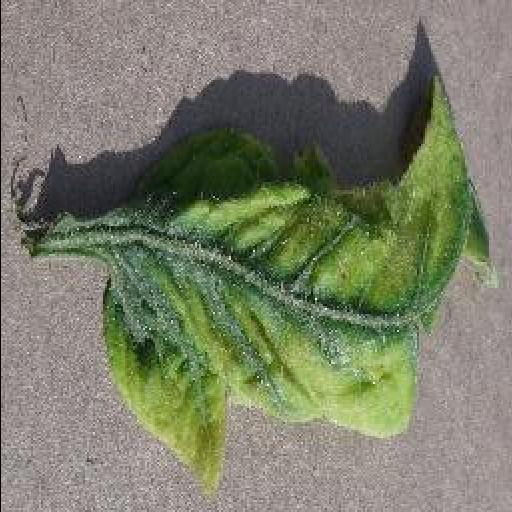disease_tomato: (99, 74, 501, 492)
